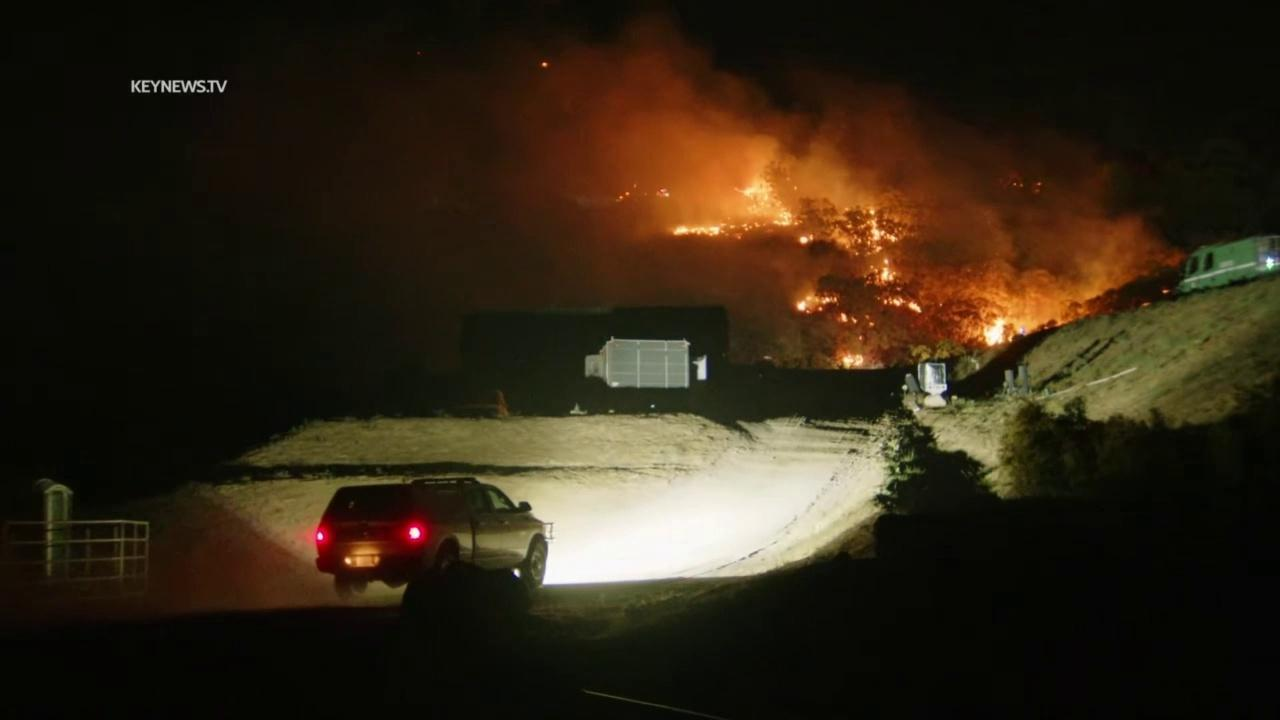fire: (732, 171, 805, 227), (858, 207, 900, 255), (869, 258, 904, 291), (795, 291, 839, 314), (671, 223, 729, 239), (882, 295, 923, 315), (981, 317, 1006, 346), (840, 352, 865, 370), (798, 232, 815, 246), (653, 186, 670, 197), (839, 311, 849, 325), (850, 316, 858, 325), (539, 61, 549, 68), (869, 322, 876, 328), (617, 195, 624, 200), (858, 335, 863, 340), (625, 191, 630, 196), (633, 183, 638, 188)
smoke: (345, 2, 1194, 337)
